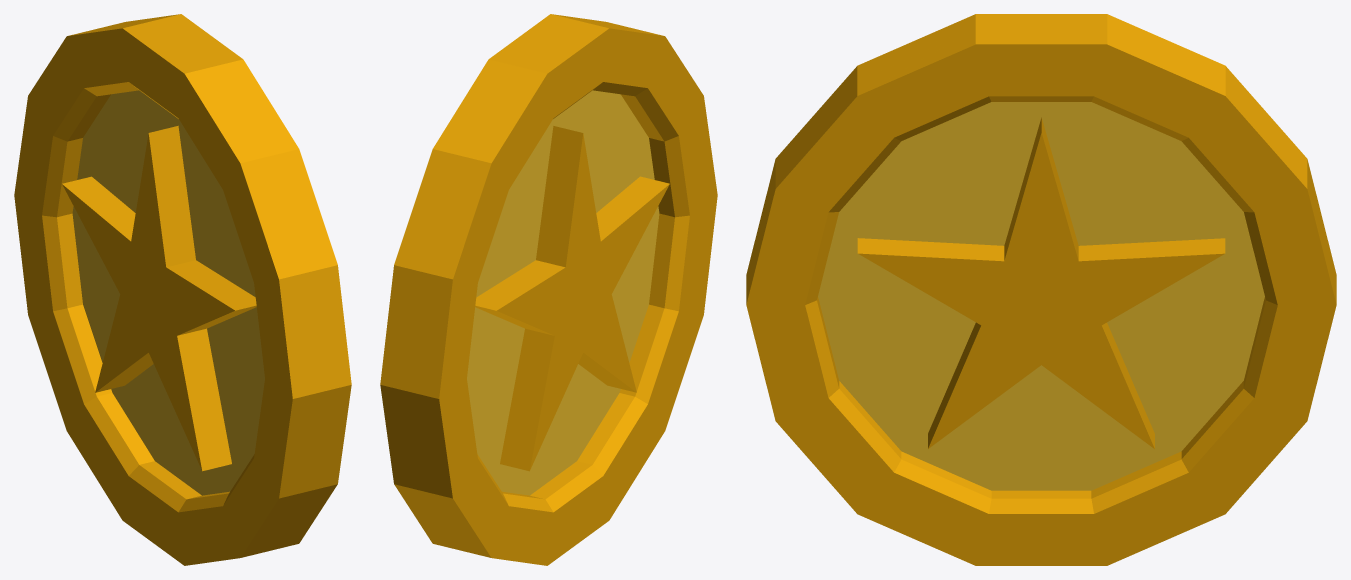
The model's file is Gold Coin.fbx.
3 views of the same model, side by side, from view 1: azimuth 30°, elevation 25°; view 2: azimuth 150°, elevation 25°; view 3: azimuth 270°, elevation 25° (orthographic). The views are drawn at different scales.
Visible parts, largest first — view 1: Circle; view 2: Circle; view 3: Circle.
Boxes of the visible parts, x1=… form: Circle: x1=14, y1=14, x2=351, y2=565; Circle: x1=380, y1=14, x2=717, y2=565; Circle: x1=746, y1=14, x2=1336, y2=565.
Size of the model in its own units: 28.46 by 195 by 200.
